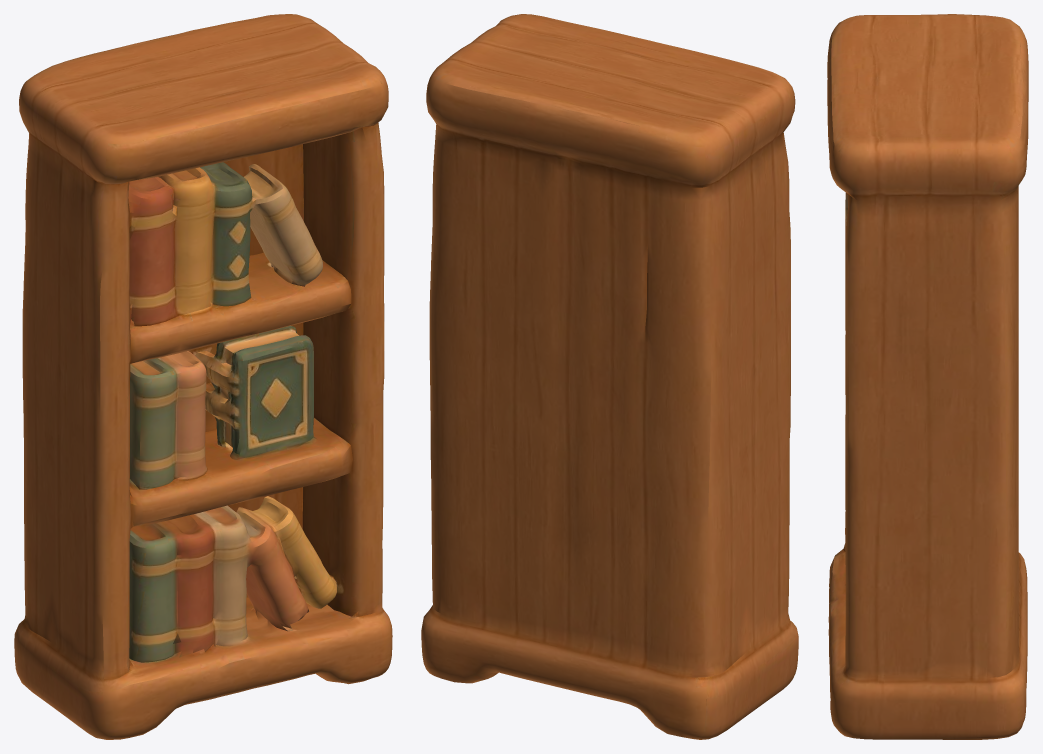
File: Meshy_AI_model.glb
The picture shows the model from 3 angles, left to right: view 1: azimuth 30°, elevation 25°; view 2: azimuth 150°, elevation 25°; view 3: azimuth 270°, elevation 25°; orthographic projection.
Visible parts, largest first — view 1: Mesh0; view 2: Mesh0; view 3: Mesh0.
Part boxes in pixels (box(x1,y1,x2,y2)): Mesh0: box(14, 14, 392, 739); Mesh0: box(421, 14, 798, 739); Mesh0: box(827, 14, 1028, 739).
Bounding box in the file's own units: 0.9911 × 1.9 × 0.5826.
Materials: 1 (1 with a texture image).
